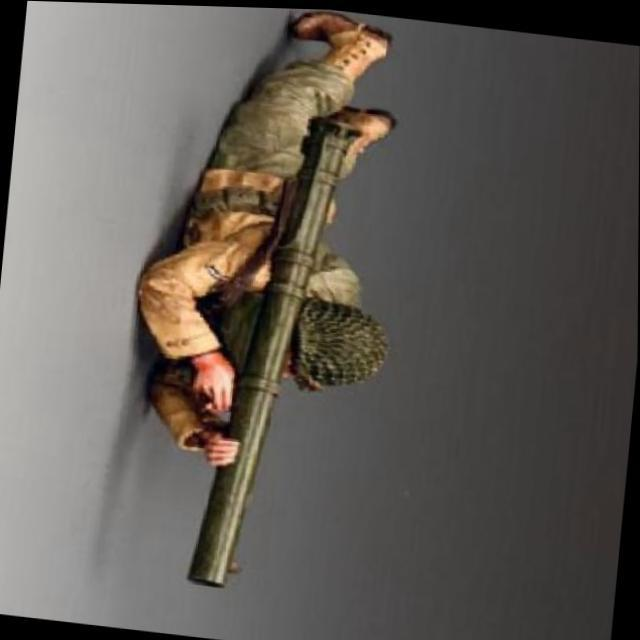weapon: (182, 85, 400, 600)
